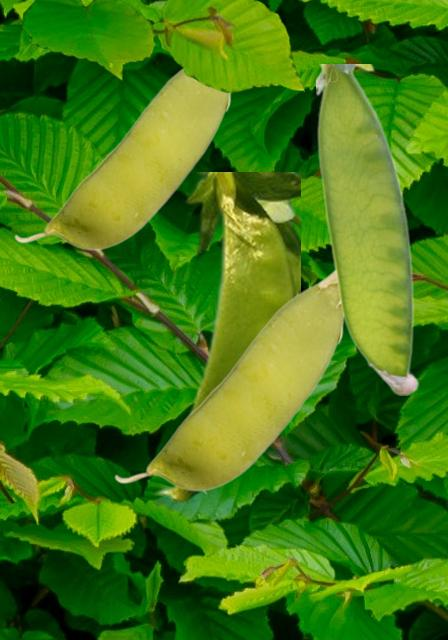pea: (114, 270, 345, 490), (155, 172, 299, 502), (14, 68, 233, 249), (316, 64, 418, 394)
